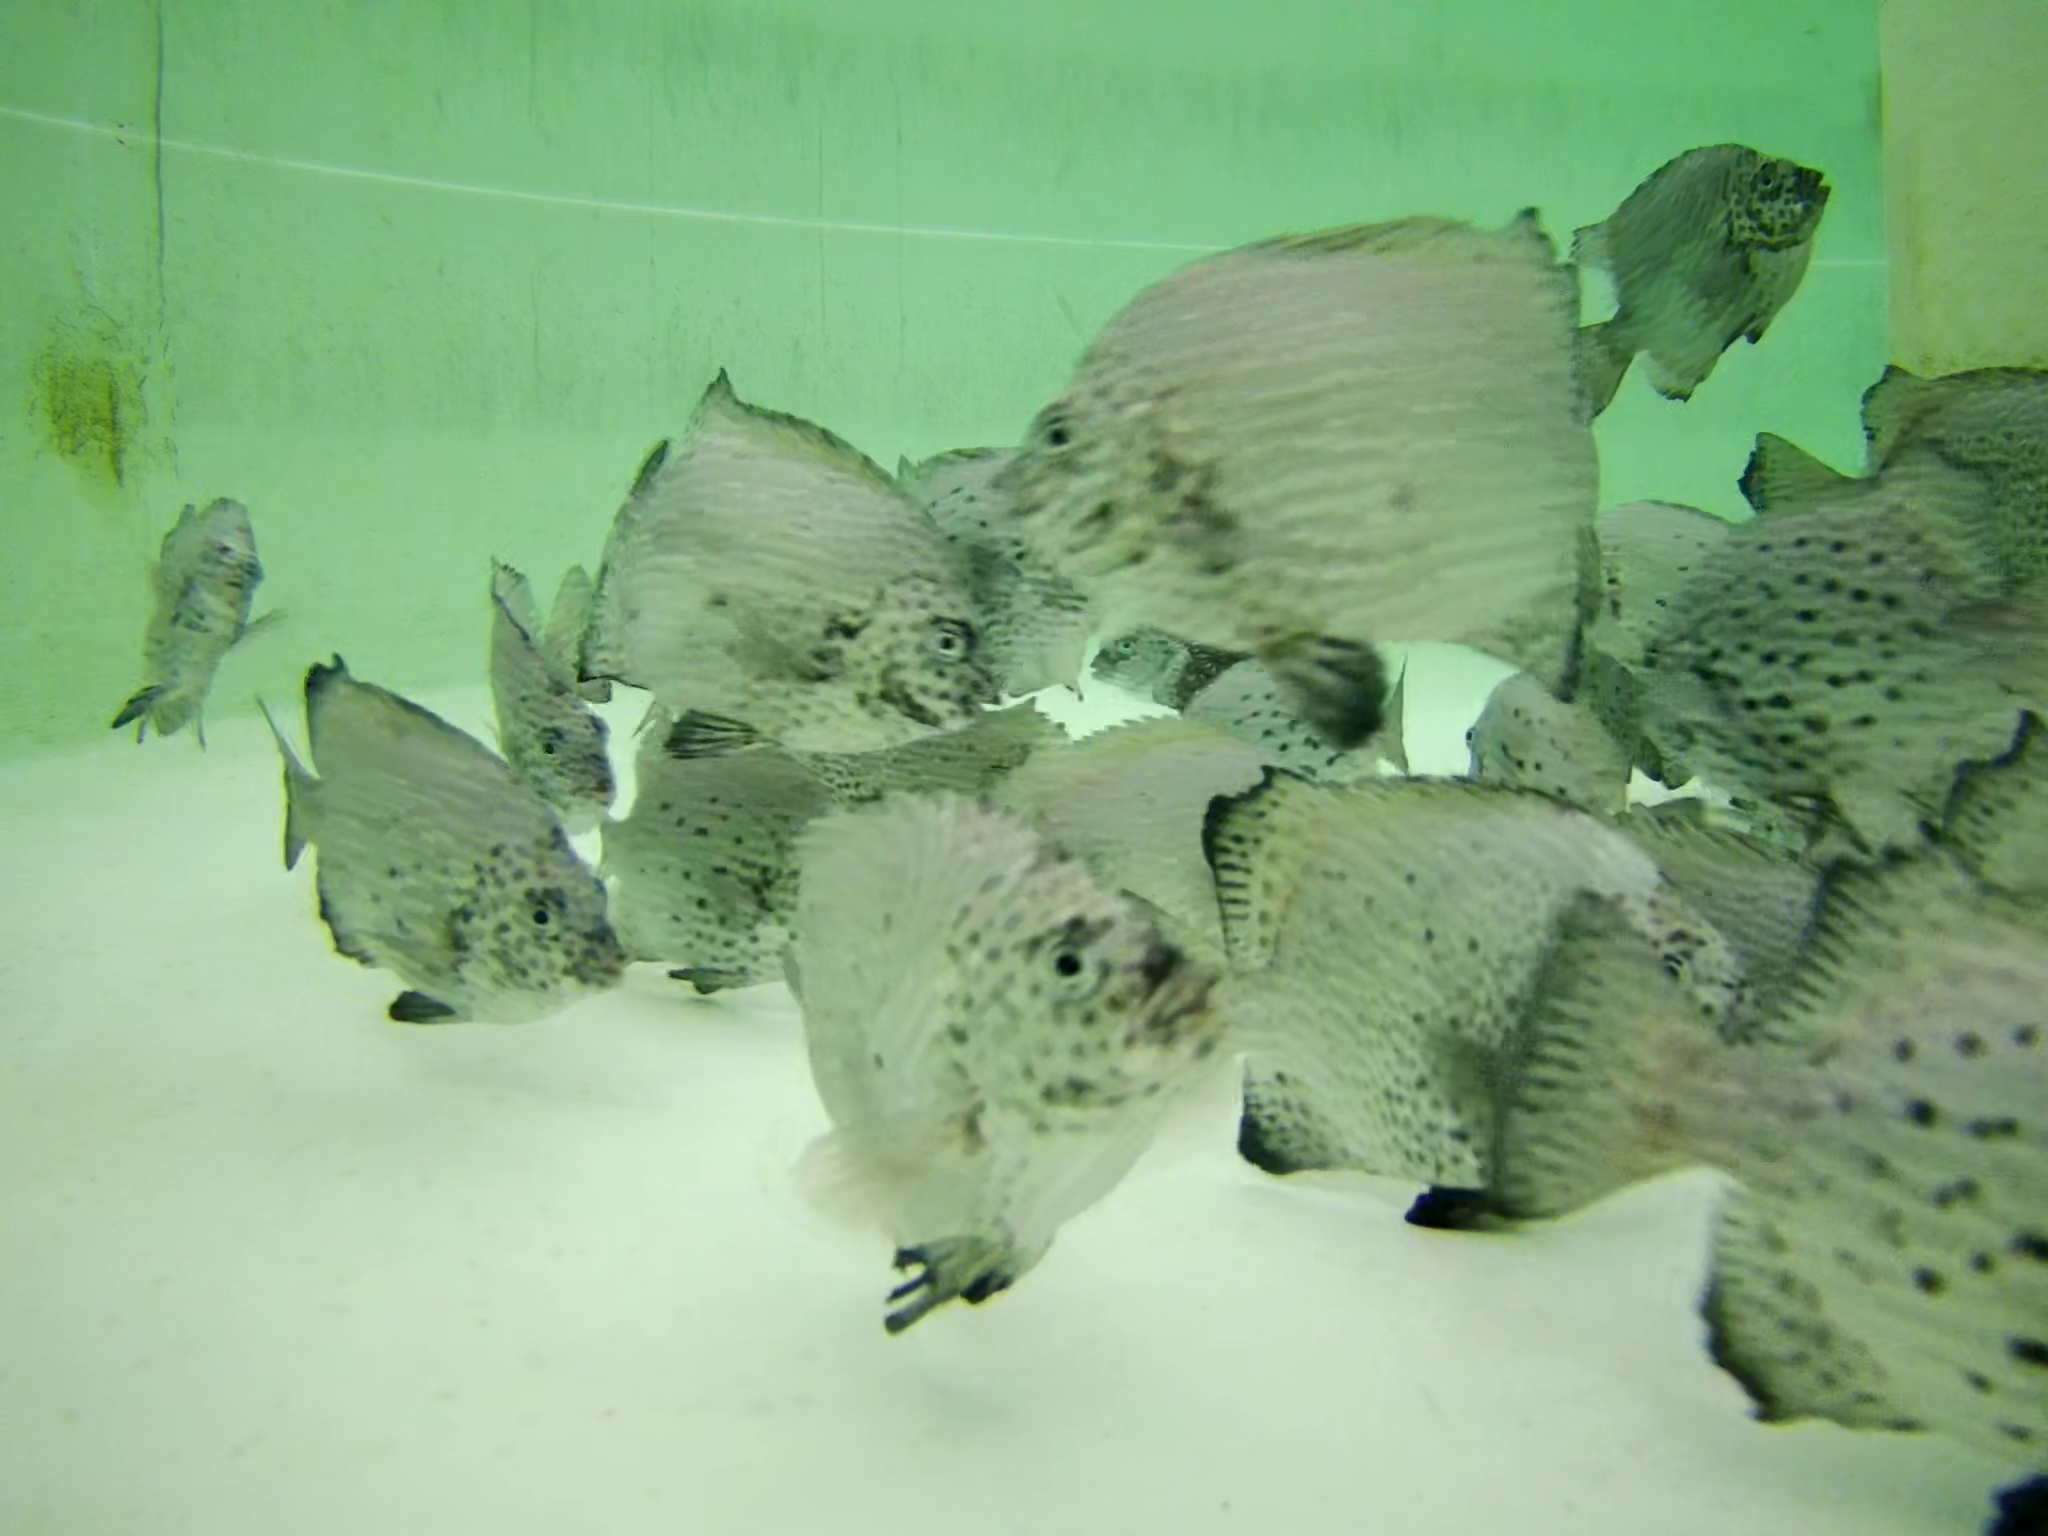fish: (1487, 818, 2048, 1476), (977, 210, 1625, 705), (1164, 758, 1742, 1249), (756, 792, 1256, 1297), (582, 363, 998, 734), (1650, 436, 2048, 816), (266, 668, 631, 1026), (1582, 118, 1830, 400), (610, 713, 851, 984), (1505, 497, 1784, 697), (735, 678, 1061, 847), (1743, 358, 2048, 534), (908, 440, 1119, 691), (1179, 621, 1422, 781), (482, 516, 611, 802), (137, 481, 258, 753), (1469, 663, 1659, 813), (1085, 602, 1358, 681), (1089, 608, 1251, 695)
